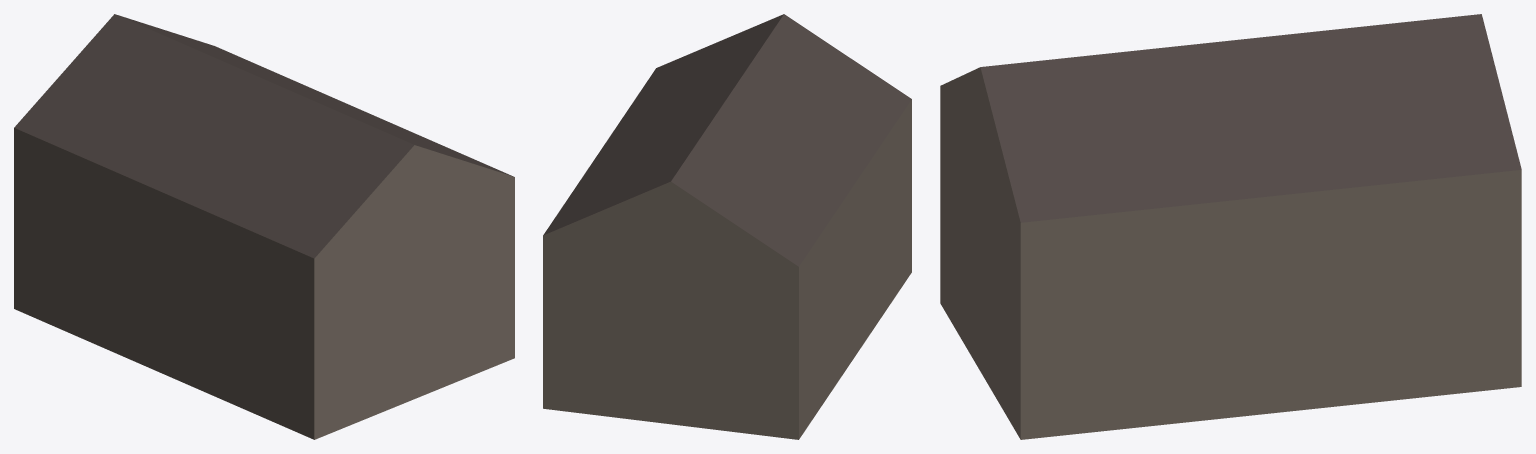
3 renders of one model, left to right at view 1: azimuth 30°, elevation 25°; view 2: azimuth 150°, elevation 25°; view 3: azimuth 270°, elevation 25°, orthographic. The views are drawn at different scales.
Visible parts, largest first — view 1: HP-w1376988674; view 2: HP-w1376988674; view 3: HP-w1376988674.
Boxes of the visible parts, x1,y1,x2,y2 form: HP-w1376988674: [14, 14, 514, 439]; HP-w1376988674: [543, 14, 911, 439]; HP-w1376988674: [940, 14, 1521, 439].
Bounding box in the file's own units: 11.26 × 8.41 × 14.57.
